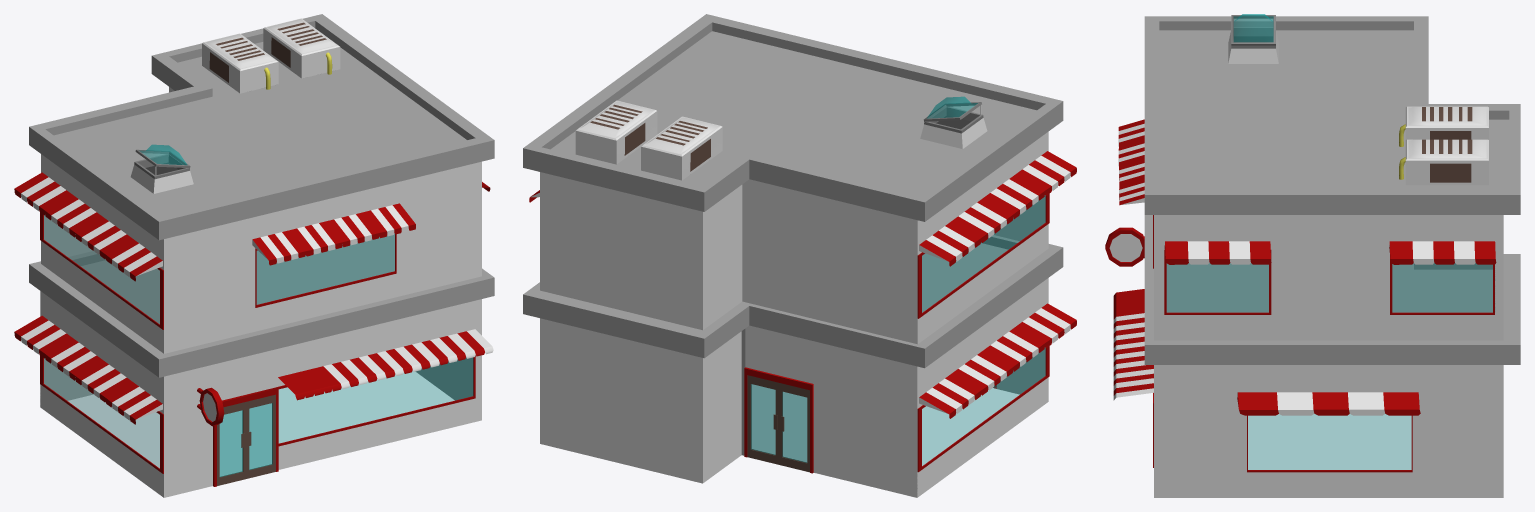
The model's file is Building_TwoStory_Mod_01.fbx.
3 renders of one model, left to right at view 1: azimuth 30°, elevation 25°; view 2: azimuth 150°, elevation 25°; view 3: azimuth 270°, elevation 25°, orthographic. The views are drawn at different scales.
Parts seen in each view (by area): view 1: Building16, Building15, Shade8, Shade9, Shade16, Shade14, Aircon1, Aircon, Door22, Door23, RoofLatch, Sign; view 2: Building16, Building15, Shade16, Shade9, Aircon1, Aircon, Door25, Door24, RoofLatch; view 3: Building16, Building15, Shade10, Aircon1, Shade8, Aircon, Shade13, Shade12, RoofLatch, Shade14, Sign.
Boxes of the visible parts, x1,y1,x2,y2 form: Building16: (29,14,494,353); Building15: (29,233,494,497); Shade8: (278,329,493,400); Shade9: (14,315,162,424); Shade16: (14,172,162,281); Shade14: (252,203,415,265); Aircon1: (263,18,340,78); Aircon: (202,33,278,93); Door22: (246,394,275,478); Door23: (217,402,246,485); RoofLatch: (130,144,193,193); Sign: (197,387,224,426); Building16: (523,14,1063,344); Building15: (523,235,1063,497); Shade16: (919,151,1076,266); Shade9: (919,303,1076,418); Aircon1: (575,100,657,164); Aircon: (641,116,722,180); Door25: (747,375,778,464); Door24: (779,383,809,472); RoofLatch: (920,96,987,148); Building16: (1144,16,1520,340); Building15: (1144,215,1520,497); Shade10: (1237,392,1420,415); Aircon1: (1399,139,1488,185); Shade8: (1113,289,1153,400); Aircon: (1399,106,1488,146); Shade13: (1389,241,1496,264); Shade12: (1164,241,1271,264); RoofLatch: (1228,14,1278,63); Shade14: (1118,119,1144,205); Sign: (1105,227,1144,266).
Size of the model in its own units: 10.37 by 8.46 by 9.51.
